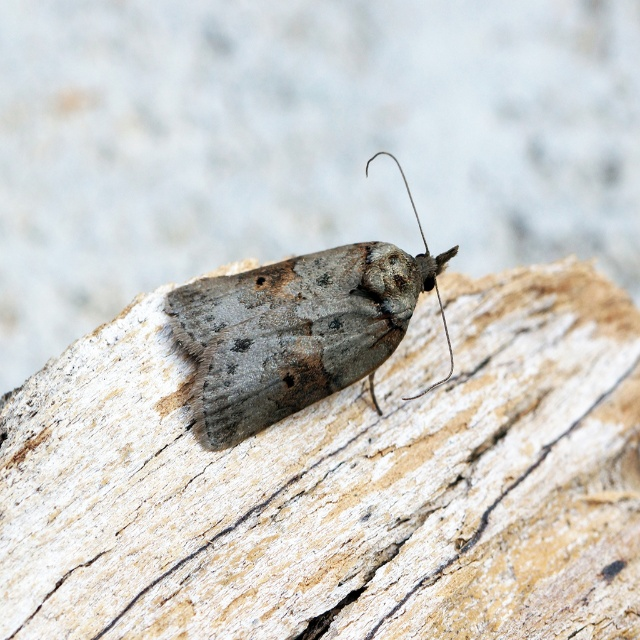Moths and butterflies: (166, 148, 458, 449)
